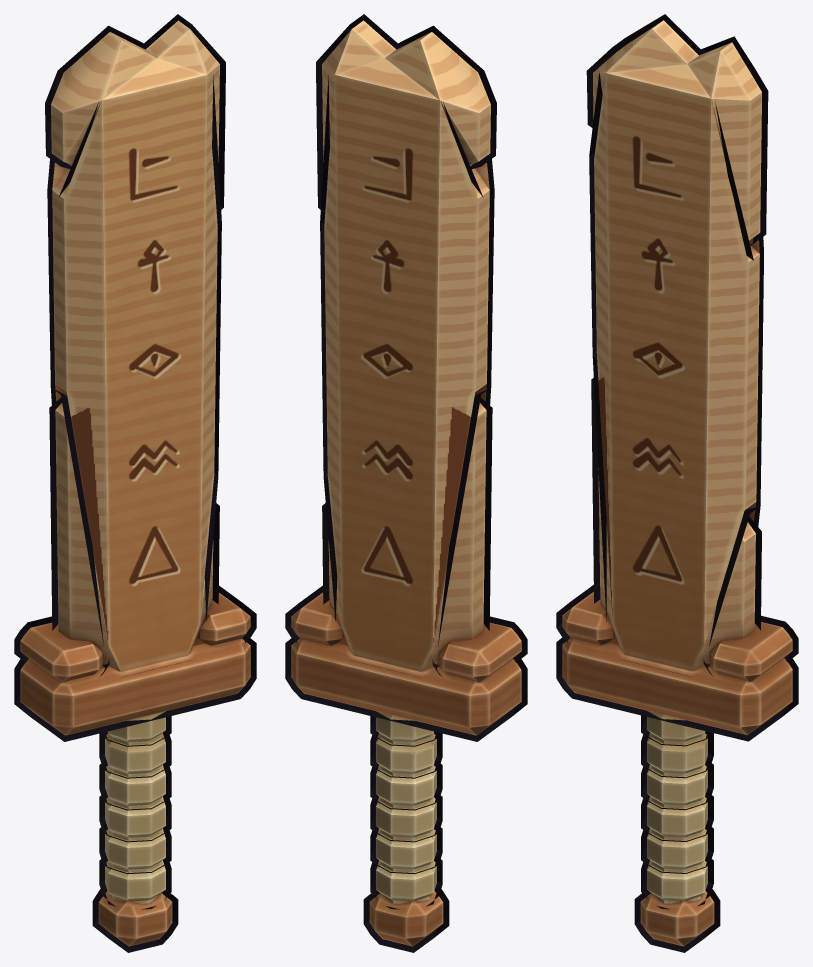
Rendered from SandstoneSword.fbx.
3 views of the same model, side by side, from view 1: azimuth 30°, elevation 25°; view 2: azimuth 150°, elevation 25°; view 3: azimuth 330°, elevation 25° (orthographic).
Parts seen in each view (by area): view 1: SandstoneSword, SandstoneSwordOutline; view 2: SandstoneSword, SandstoneSwordOutline; view 3: SandstoneSword, SandstoneSwordOutline.
Boxes of the visible parts, left/top/right/bottom form: SandstoneSword: left=20, top=20, right=250, bottom=946; SandstoneSwordOutline: left=14, top=14, right=256, bottom=952; SandstoneSword: left=291, top=20, right=521, bottom=946; SandstoneSwordOutline: left=285, top=14, right=527, bottom=952; SandstoneSword: left=562, top=20, right=792, bottom=946; SandstoneSwordOutline: left=556, top=14, right=798, bottom=952.
Bounding box in the file's own units: 81.84 × 345 × 35.84.
2 materials, 1 textured.
